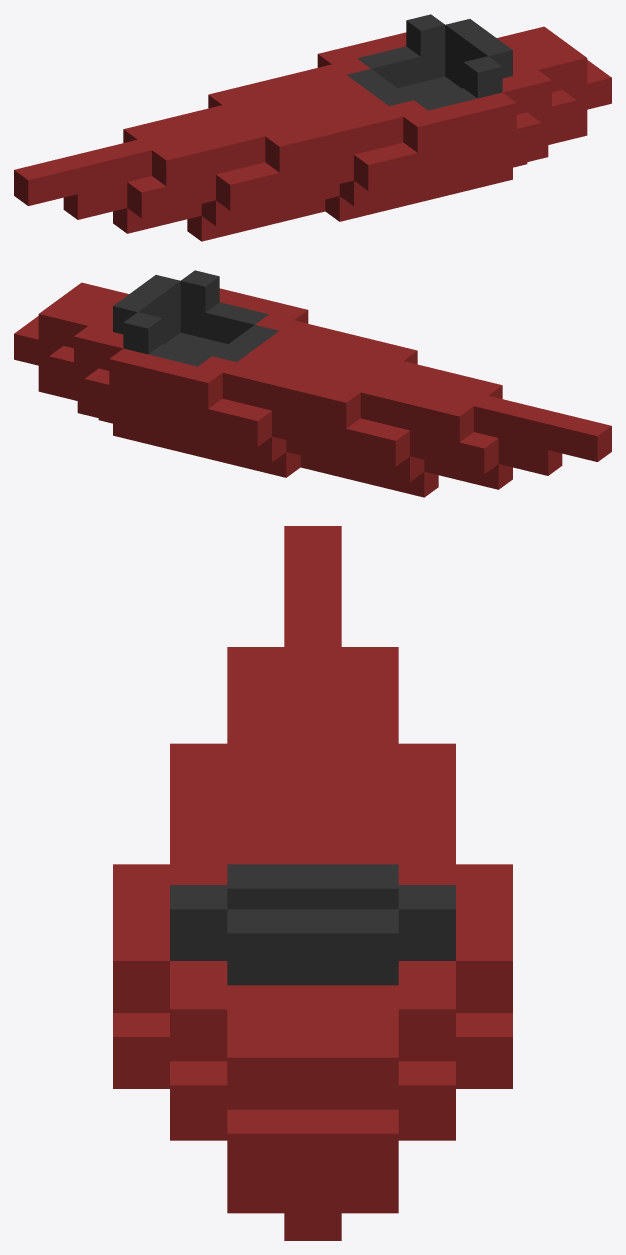
File: canoe 1.obj
The picture shows the model from 3 angles, top to bottom: view 1: azimuth 30°, elevation 25°; view 2: azimuth 150°, elevation 25°; view 3: azimuth 270°, elevation 25°; orthographic projection. The views are drawn at different scales.
Size of the model in its own units: 2.3 by 0.5 by 0.7.
